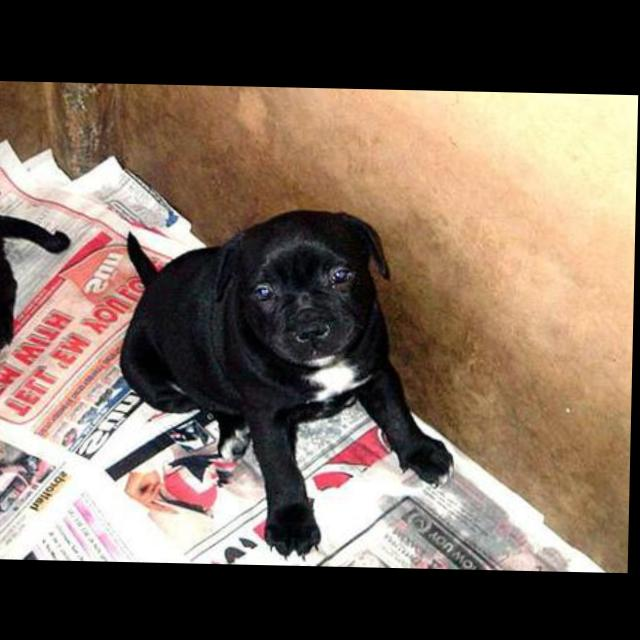staffford: (120, 204, 463, 560), (1, 185, 75, 461)
